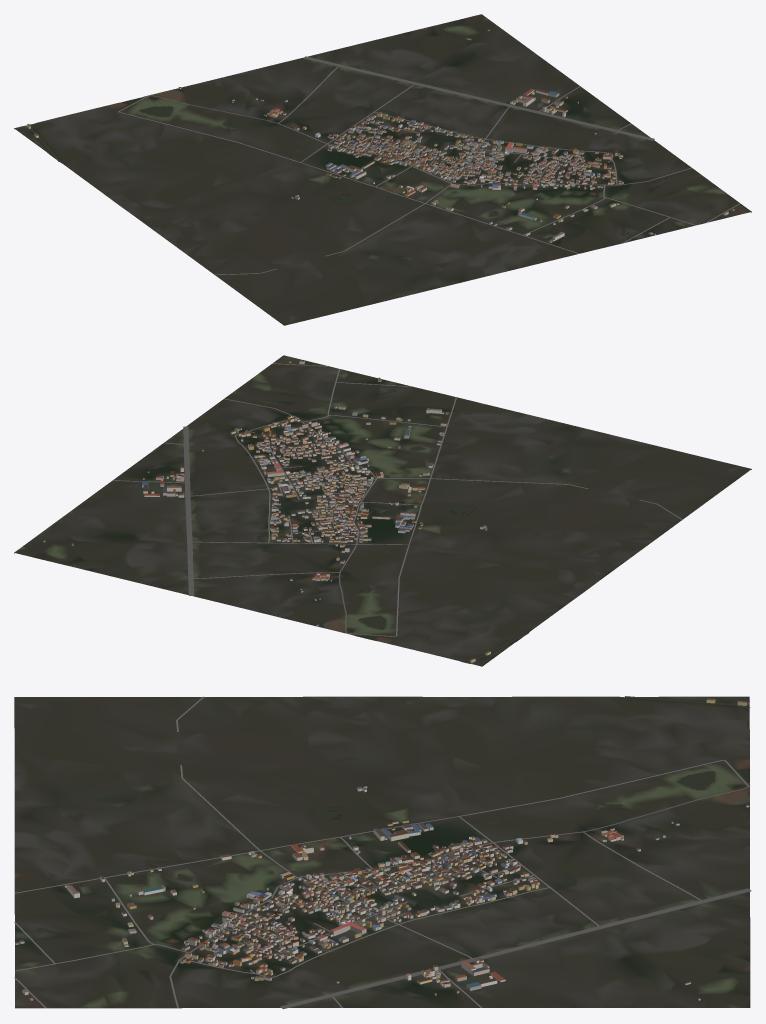
3 views of the same model, one above another, from view 1: azimuth 30°, elevation 25°; view 2: azimuth 150°, elevation 25°; view 3: azimuth 270°, elevation 25° (orthographic). The views are drawn at different scales.
Parts seen in each view (by area): view 1: ground, buildings, roads, water; view 2: ground, buildings, roads, water; view 3: ground, buildings, roads, water.
Boxes of the visible parts, x1,y1,x2,y2 form: ground: [14, 14, 751, 325]; buildings: [27, 29, 734, 242]; roads: [21, 56, 740, 274]; water: [30, 98, 629, 266]; ground: [14, 355, 751, 666]; buildings: [43, 360, 490, 662]; roads: [113, 363, 682, 664]; water: [356, 389, 551, 662]; ground: [14, 696, 750, 1008]; buildings: [15, 698, 749, 1000]; roads: [14, 696, 751, 1009]; water: [37, 696, 750, 933].
Size of the model in its own units: 1413 by 17.71 by 1407.
